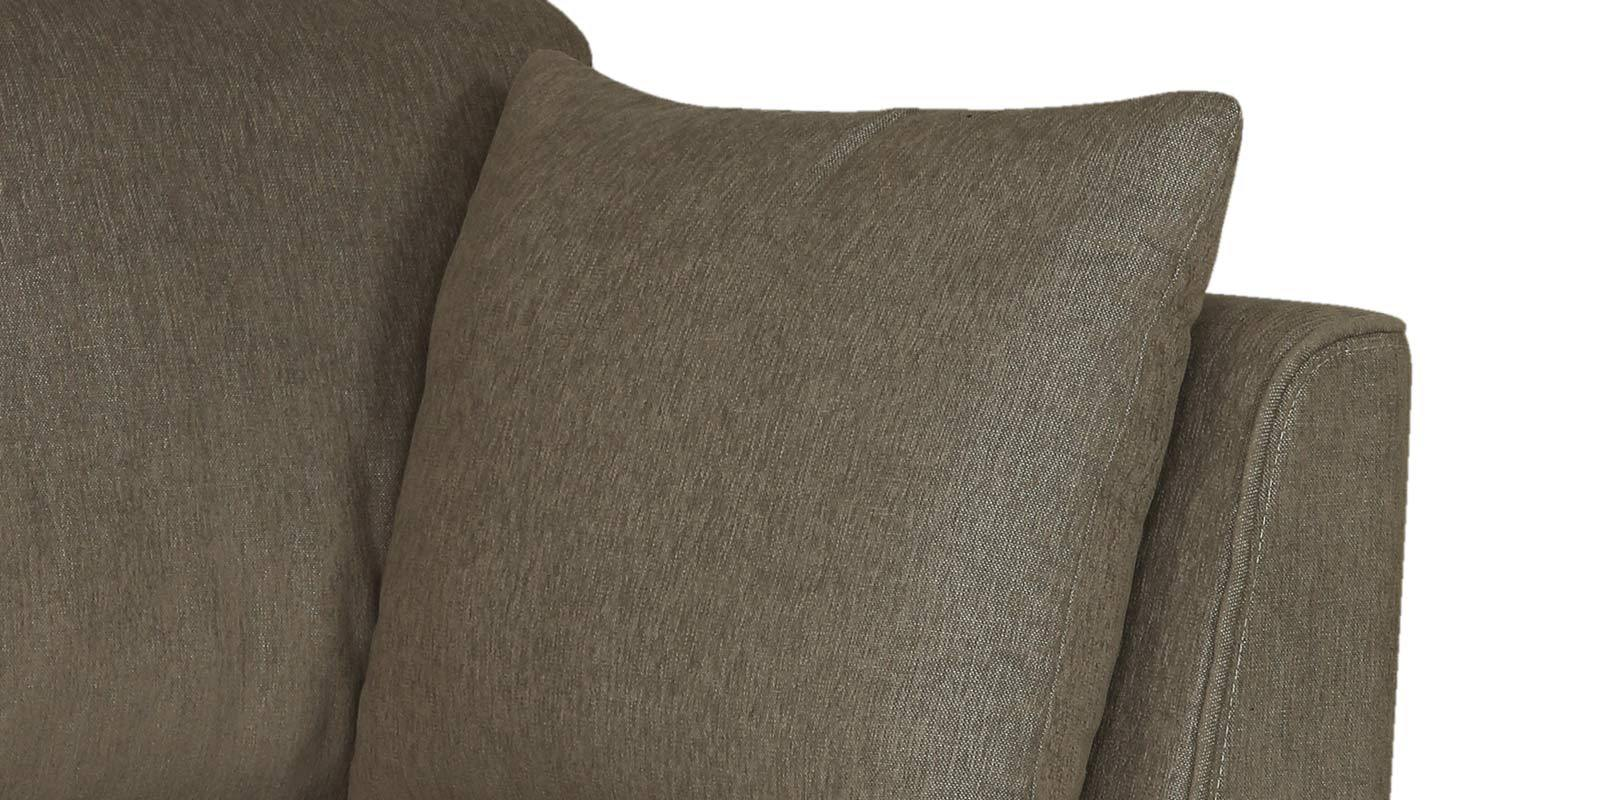Miranda Three Seater Sofa in Sandy Brown Colour by CasaCraft: (5, 1, 1412, 800)
